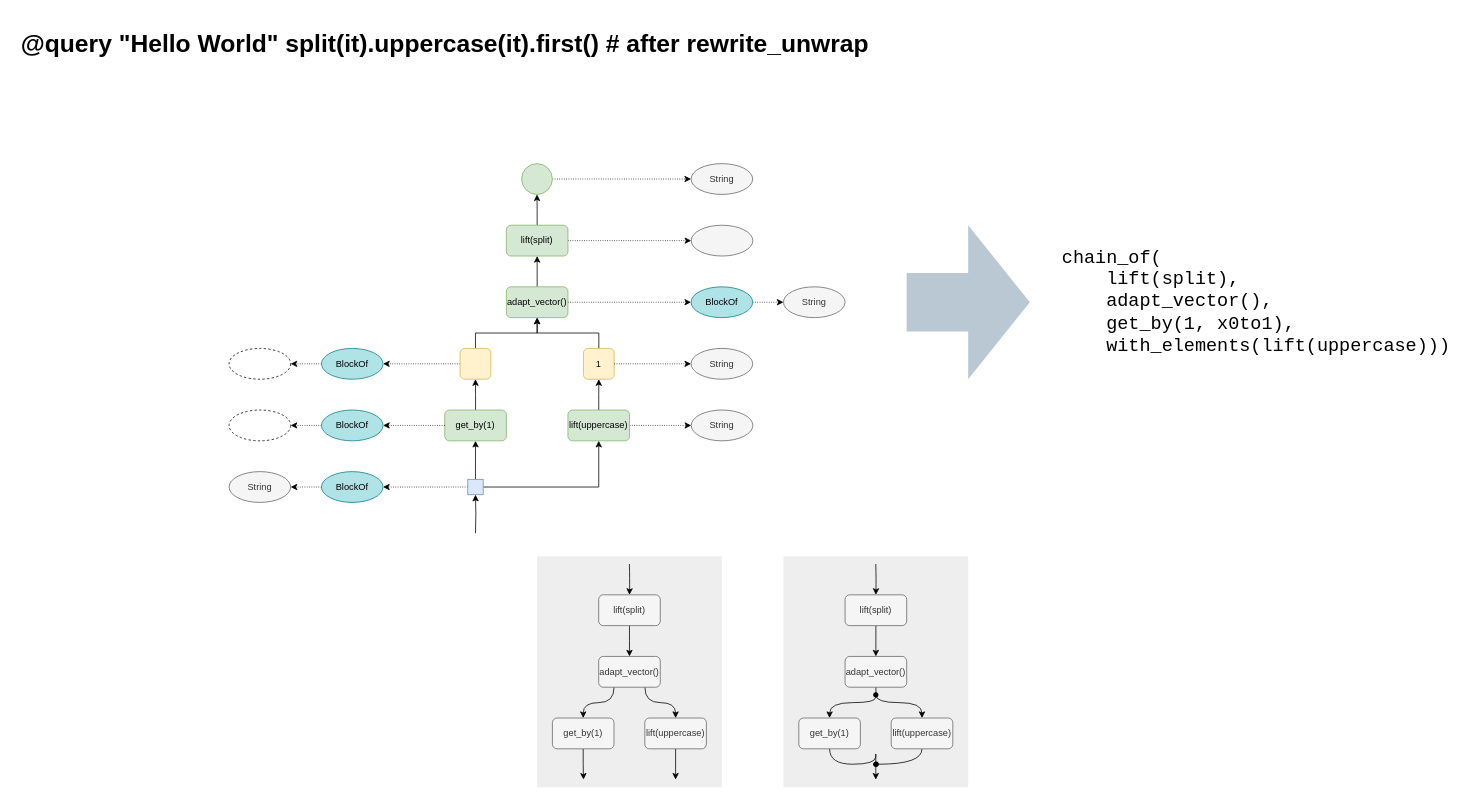
The diagram is 1474 pixels wide and 801 high, and some of its shapes have lost their labels. Here are the shapes that lost their labels. From the top down, the centre of each, then its label:
At (721,240): "Vector{String}".
At (475,363): "head".
